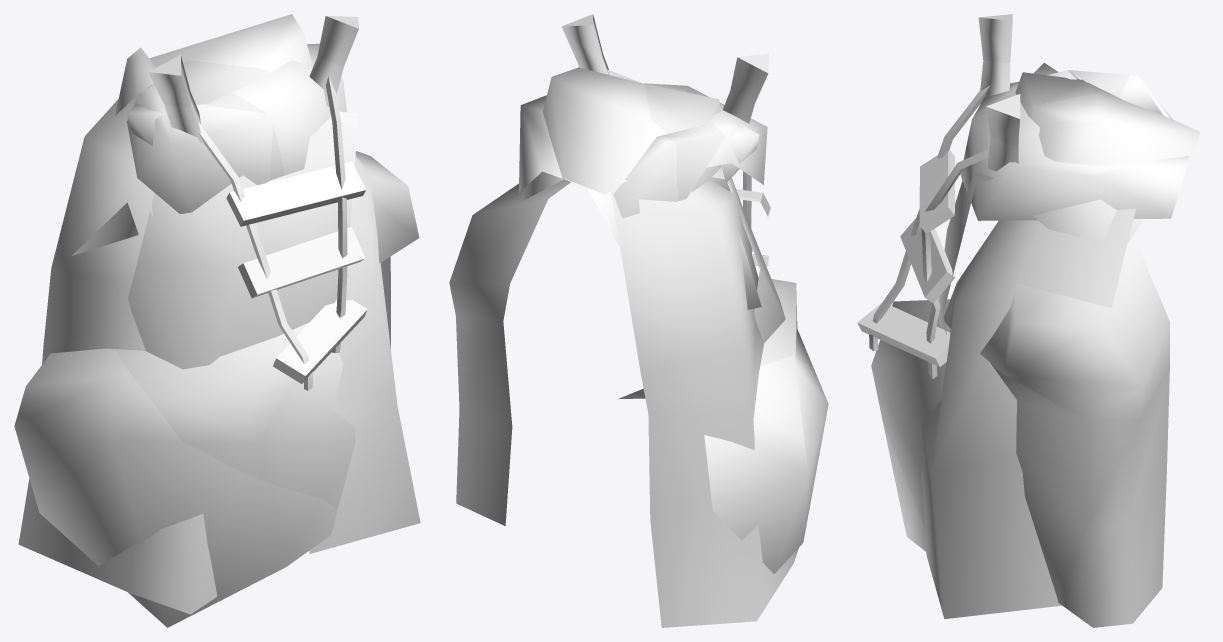
Rendered from narrow_end_a.glb.
The picture shows the model from 3 angles, left to right: view 1: azimuth 30°, elevation 25°; view 2: azimuth 150°, elevation 25°; view 3: azimuth 270°, elevation 25°; orthographic projection. The views are drawn at different scales.
Visible parts, largest first — view 1: TREES; view 2: TREES; view 3: TREES.
Boxes of the visible parts, x1=… form: TREES: x1=14, y1=14, x2=420, y2=627; TREES: x1=449, y1=14, x2=828, y2=627; TREES: x1=857, y1=14, x2=1200, y2=627.
Size of what is drawn, in the model's own units: 4.07 by 6 by 3.35.
Materials: 1 (1 with a texture image).
